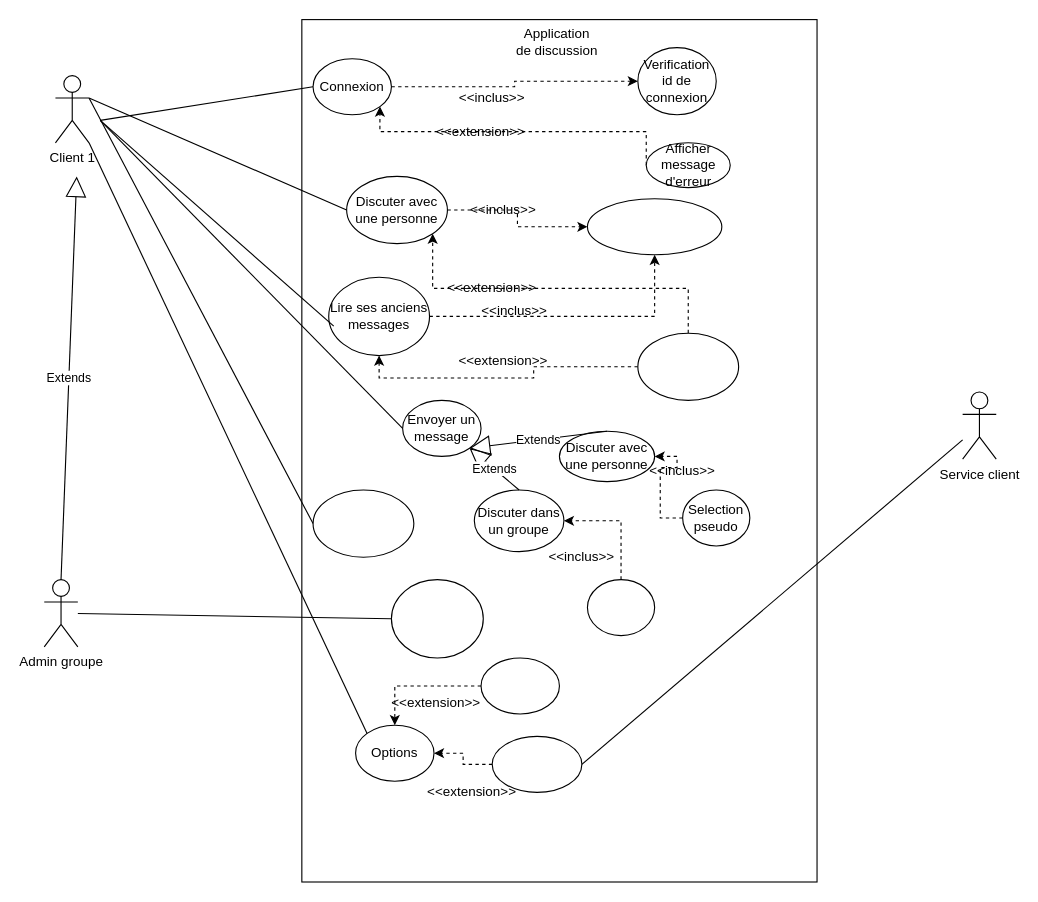
The diagram is 1038 pixels wide and 902 high, and some of its shapes have lost their labels. The shapes that lost their labels are listed below. From the top down, each one's centre as x and y in pixels, then its label:
the point at 654,226: Verification personne appartient a amis
the point at 688,366: Afficher "Vous ne pouvez faire cette action"
the point at 363,523: Quitter le groupe
the point at 436,618: Creer un groupe
the point at 620,607: Selection groupe
the point at 519,685: Modifier profil
the point at 536,763: Signaler une erreur
